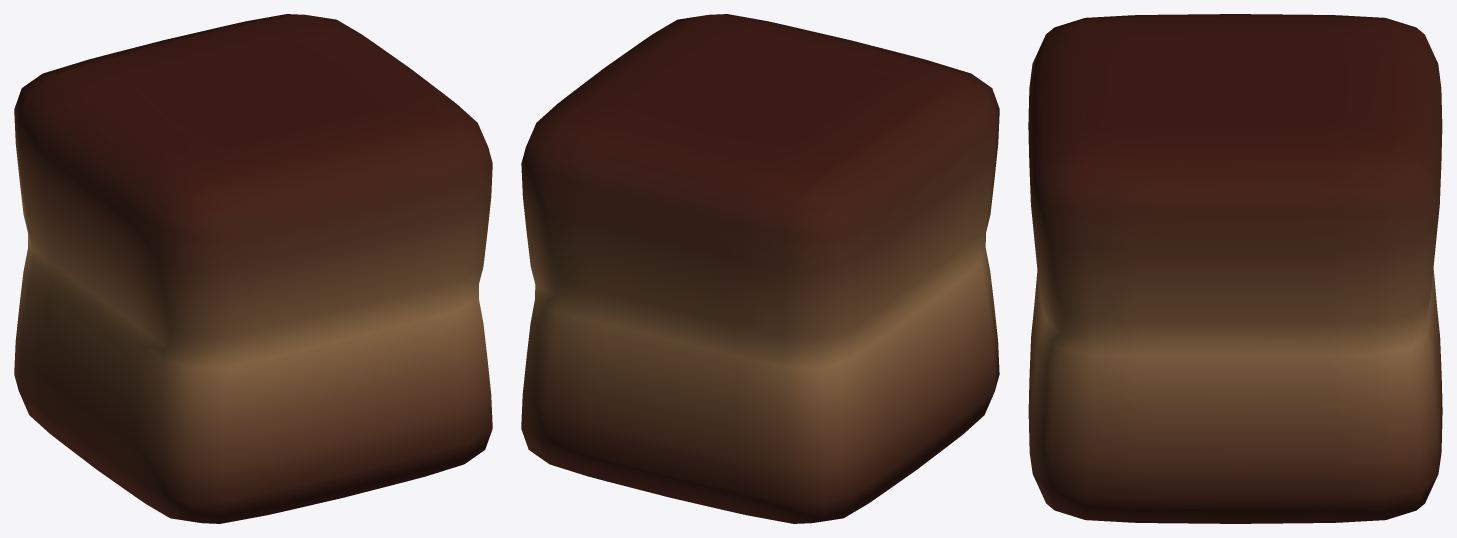
File: TileDirt_1.fbx
3 views of the same model, side by side, from view 1: azimuth 30°, elevation 25°; view 2: azimuth 150°, elevation 25°; view 3: azimuth 270°, elevation 25° (orthographic). The views are drawn at different scales.
Visible parts, largest first — view 1: TileDirt; view 2: TileDirt; view 3: TileDirt.
Part boxes in pixels (<box>): TileDirt: <box>14,14,492,523</box>; TileDirt: <box>521,14,999,523</box>; TileDirt: <box>1028,14,1442,523</box>.
Bounding box in the file's own units: 2 × 2 × 2.
